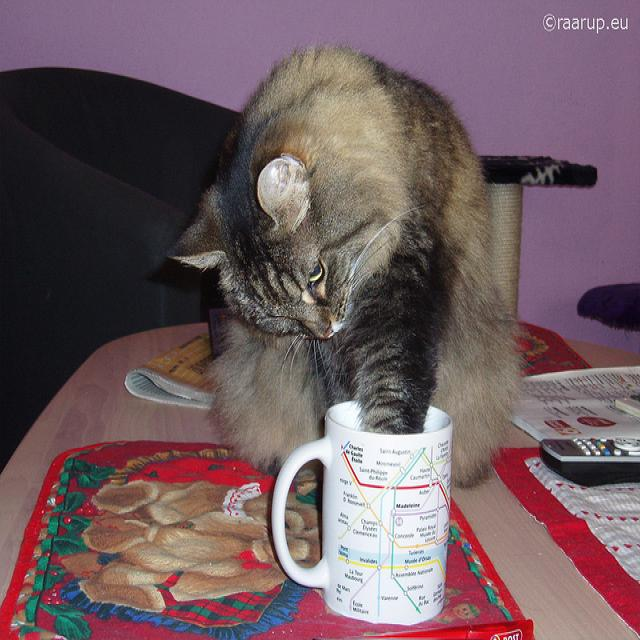chair: (0, 68, 244, 476)
dining table: (1, 321, 640, 632)
